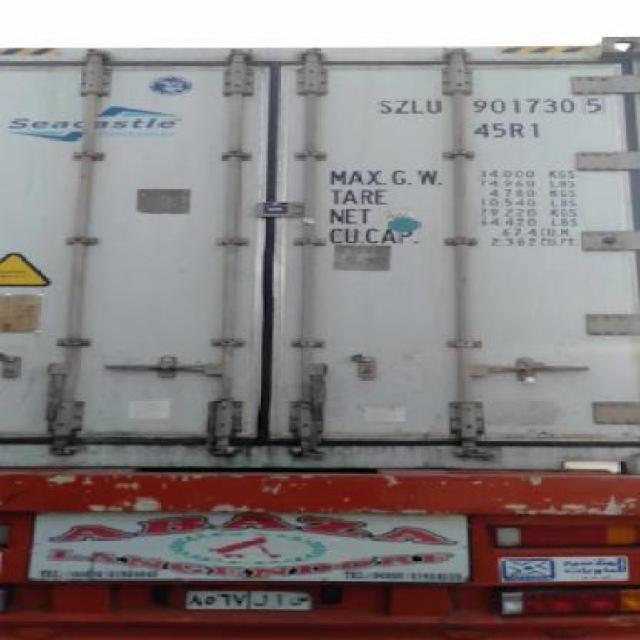ISO: (474, 119, 536, 141)
container_number: (376, 98, 608, 117)
